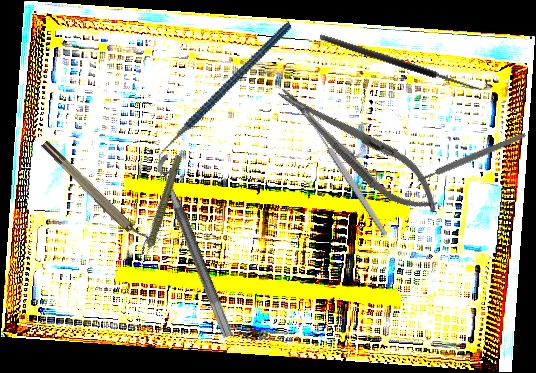Chopper: (125, 22, 323, 171)
Fixation Ring: (153, 149, 249, 339), (39, 133, 157, 256)
Handpiece: (117, 153, 203, 264)
Hook Surgical: (318, 25, 490, 95)
Needle Holder: (265, 70, 453, 228)
Scalpel Handle: (416, 131, 527, 184)
Surgical Spoon: (301, 108, 390, 238)
